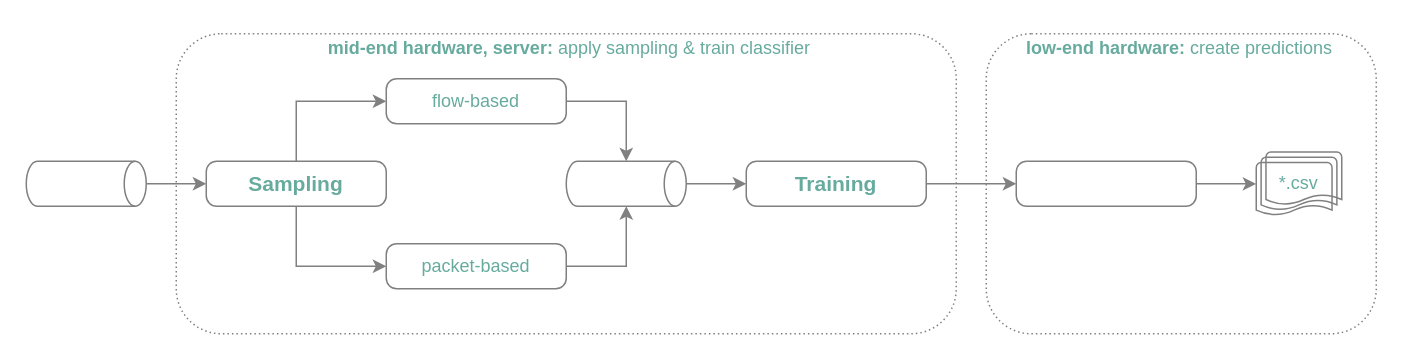
This 1403x360 diagram has some shape labels left out. Each missing label, with the box of its shape:
*.csv sampled: (565, 160, 686, 206)
*.pcap CIC-IDS-2017: (25, 160, 146, 206)
Classification: (1015, 160, 1196, 206)
